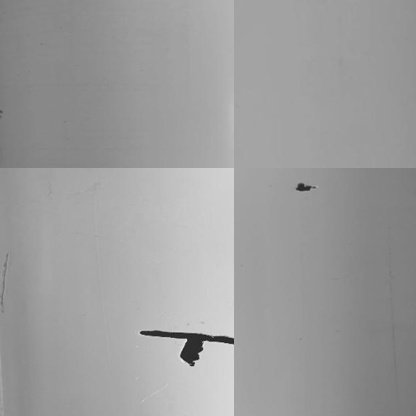fengxi: (139, 326, 242, 344)
kongdong: (177, 336, 206, 367), (294, 180, 315, 196)
